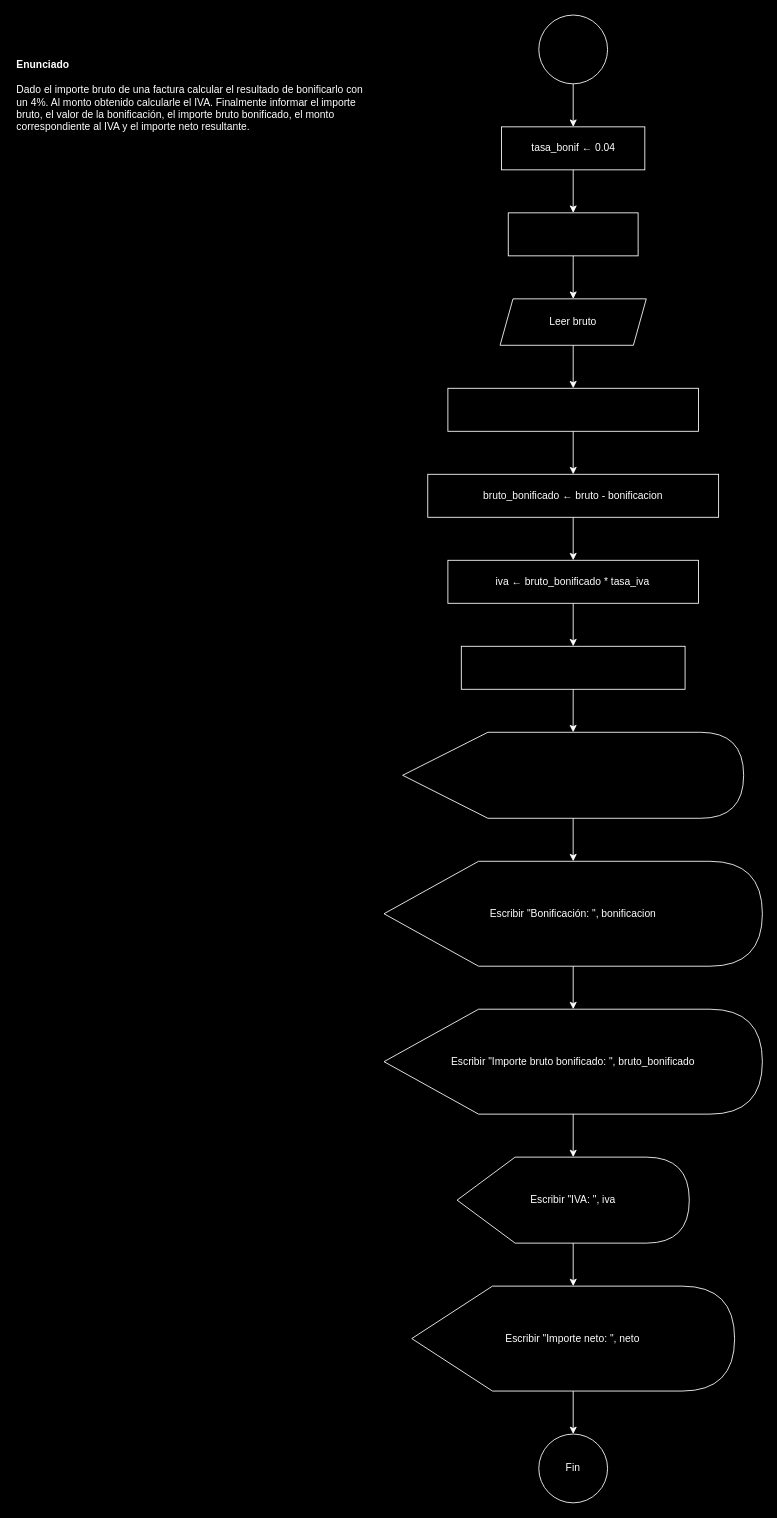
The diagram is 777 pixels wide and 1518 high, and some of its shapes have lost their labels. Here are the shapes that lost their labels. From the top down, the centre of each, then its label:
(x=573, y=49): Inicio
(x=572, y=234): tasa_iva ← 0.21
(x=572, y=409): bonificacion ← bruto * tasa_bonif
(x=572, y=667): neto ← bruto_bonificado + iva
(x=573, y=774): Escribir "Importe bruto: ", bruto
